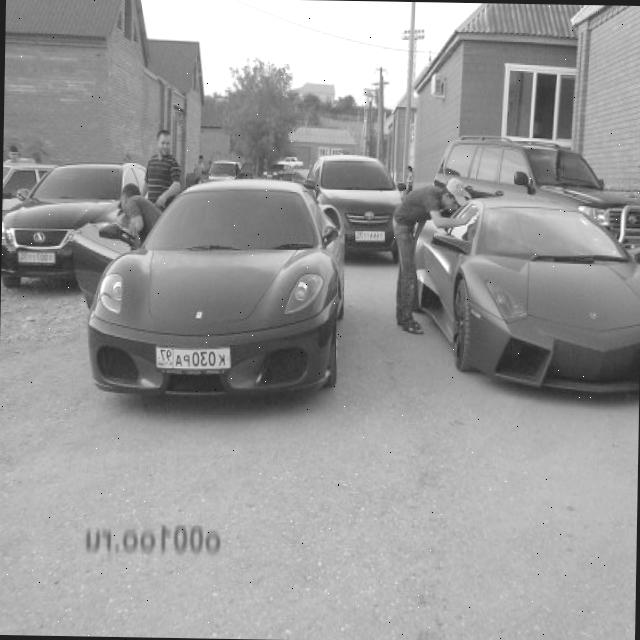number-plates: (154, 344, 233, 374), (15, 248, 56, 268), (352, 228, 386, 245)
